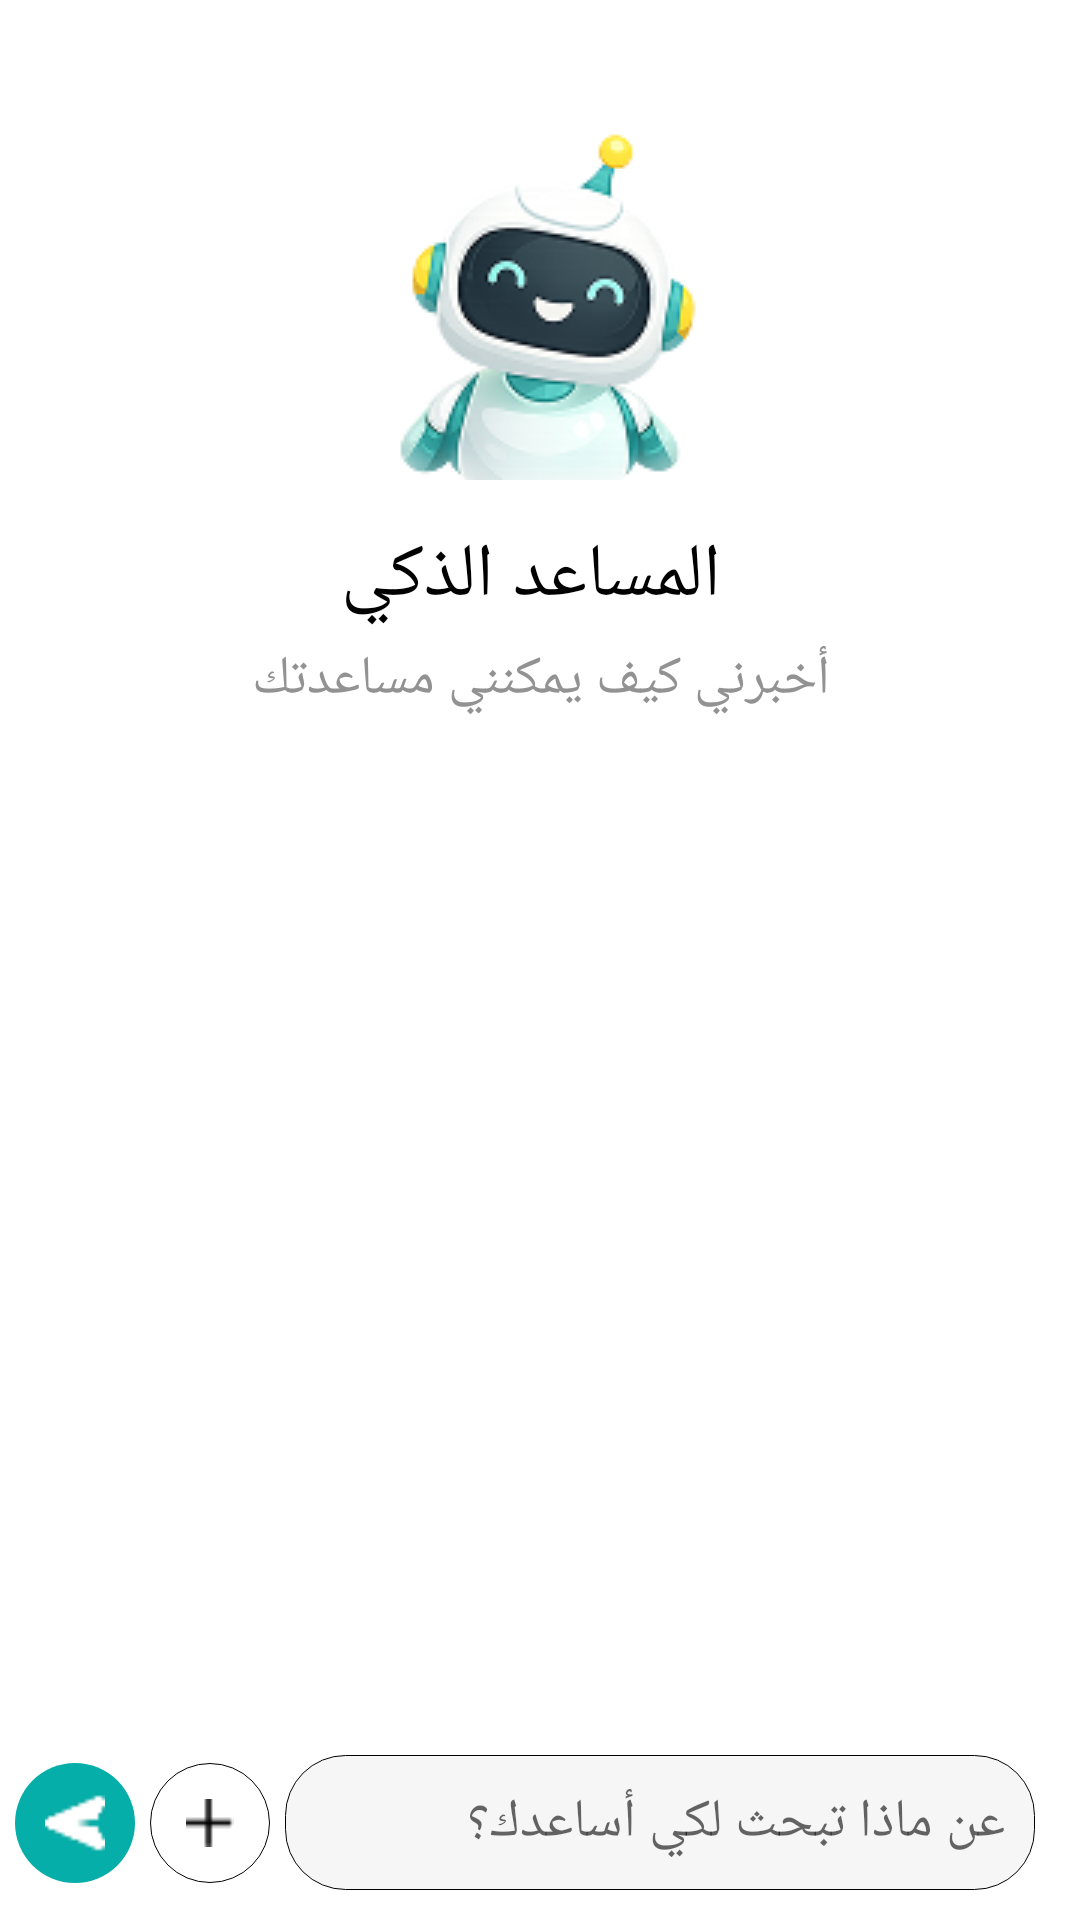

Named icons in this screenshot (1080 × 1920) and their centers, (x=x, y=y):
add: (x=210, y=1823)
robot: (x=548, y=307)
send back: (x=75, y=1823)
